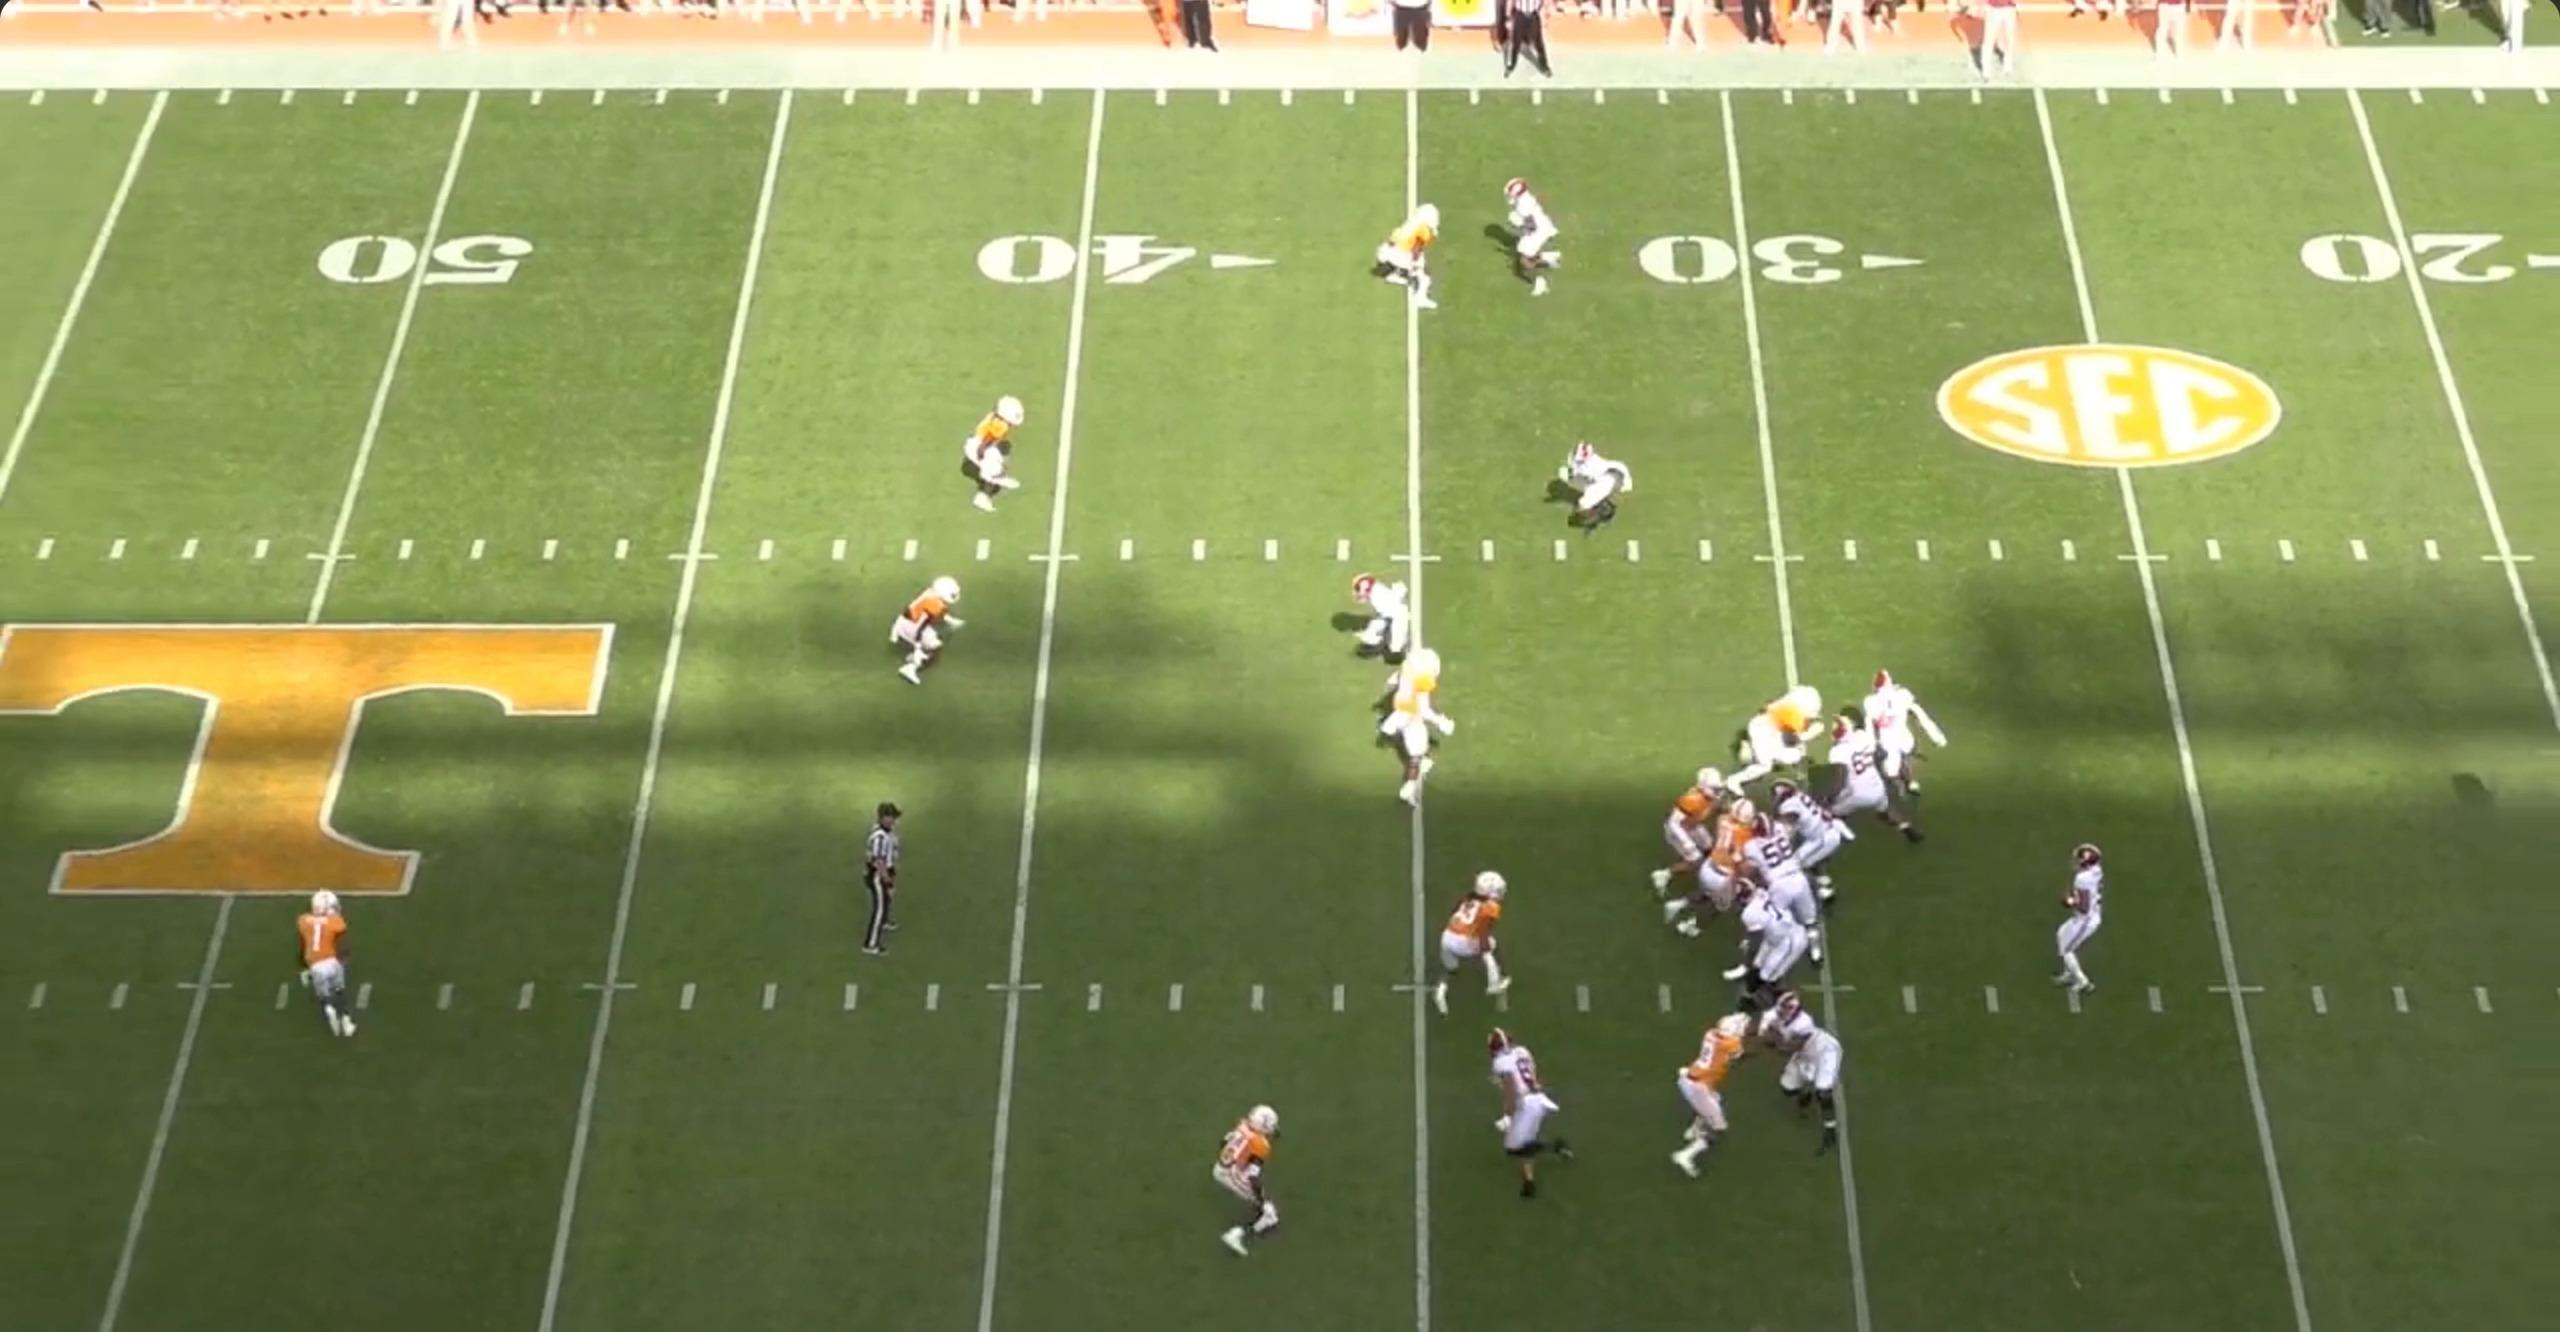player: (1374, 630, 1474, 833), (1480, 1023, 1579, 1200), (1758, 992, 1854, 1156), (1653, 1003, 1740, 1181), (1428, 863, 1524, 1014), (1209, 1097, 1296, 1263), (1737, 812, 1824, 965), (1825, 717, 1926, 846), (2049, 841, 2124, 1010), (1664, 813, 1761, 943), (1725, 872, 1807, 1024), (1721, 680, 1819, 793), (296, 882, 362, 1044), (1642, 762, 1722, 895), (1754, 778, 1840, 901), (1552, 434, 1646, 543), (896, 569, 978, 686), (1494, 170, 1569, 296), (954, 390, 1027, 517), (1381, 200, 1459, 315), (1864, 677, 1930, 807), (1346, 570, 1418, 673)
ref: (845, 802, 906, 971), (1481, 0, 1551, 85)
